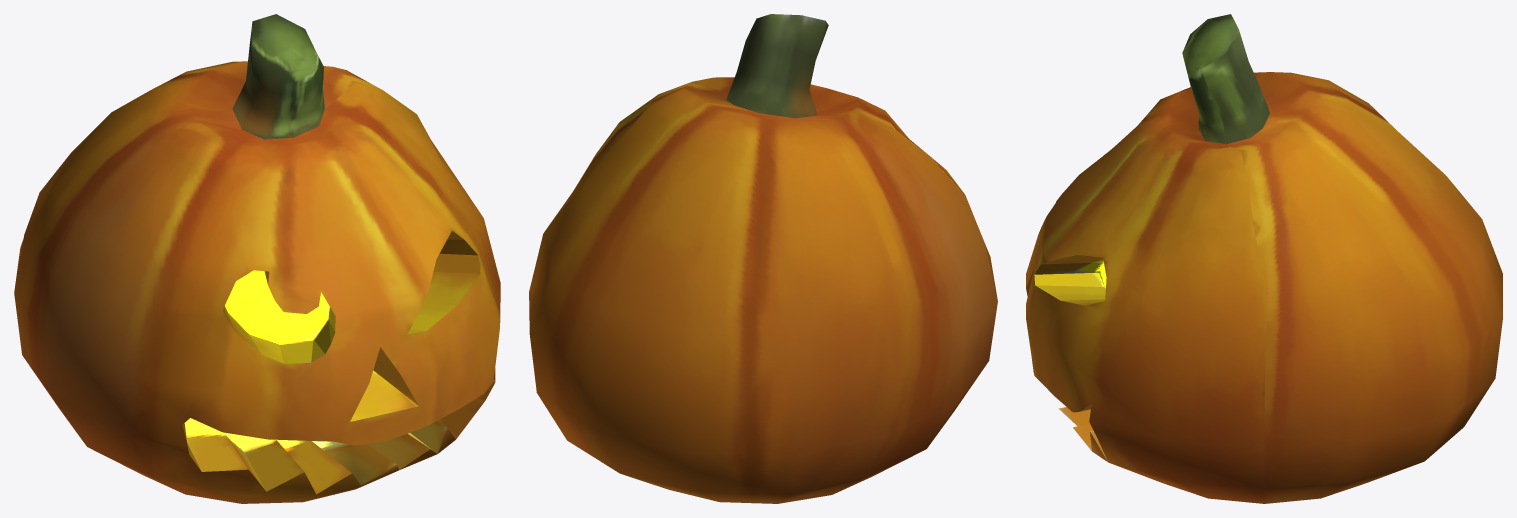
File: model_pumpkin3.FBX
The picture shows the model from 3 angles, left to right: view 1: azimuth 30°, elevation 25°; view 2: azimuth 150°, elevation 25°; view 3: azimuth 270°, elevation 25°; orthographic projection. The views are drawn at different scales.
Visible parts, largest first — view 1: model_pumpkin3; view 2: model_pumpkin3; view 3: model_pumpkin3.
Part boxes in pixels (box(x1,y1,x2,y2)): model_pumpkin3: box(14, 14, 500, 503); model_pumpkin3: box(529, 14, 997, 503); model_pumpkin3: box(1026, 14, 1502, 503).
Bounding box in the file's own units: 46.21 × 48.51 × 47.99.
